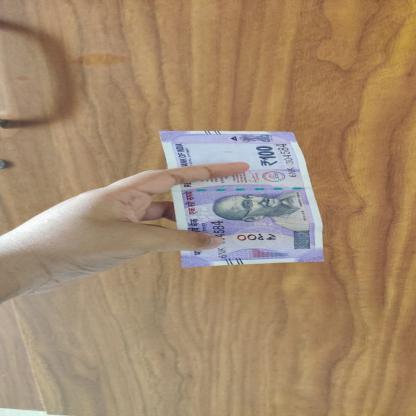New100Front: (154, 128, 328, 270)
